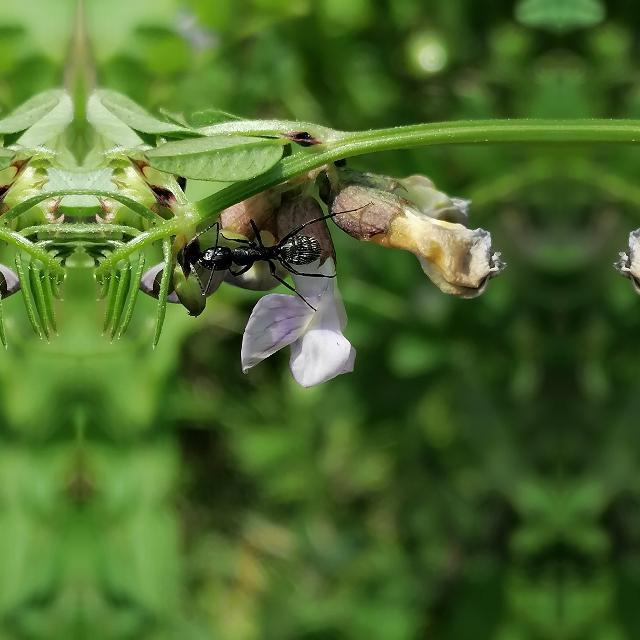Camponotus: (175, 191, 347, 301)
